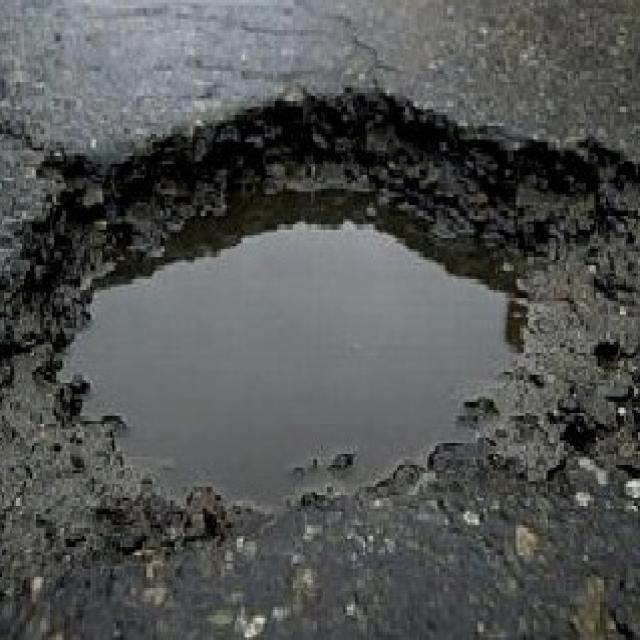road-pothole: (22, 98, 568, 524)
